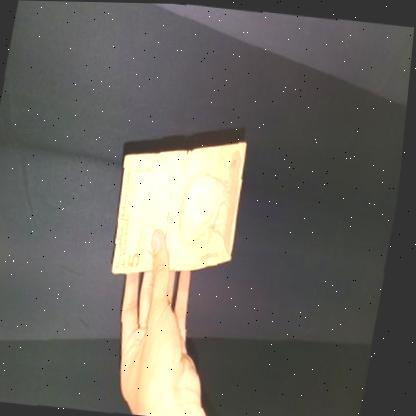five-front-vef: (108, 129, 256, 285)
